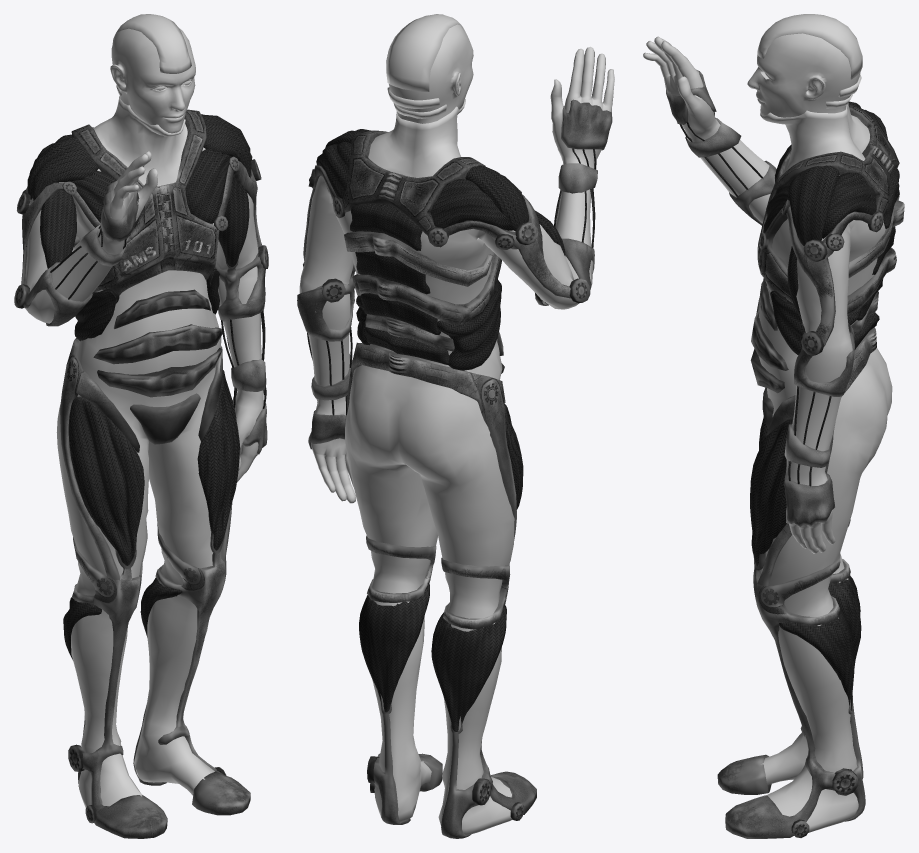
File: waving.obj
3 views of the same model, side by side, from view 1: azimuth 30°, elevation 25°; view 2: azimuth 150°, elevation 25°; view 3: azimuth 270°, elevation 25° (orthographic).
Parts seen in each view (by area): view 1: Exo_Suit, EXO_Body, EXO_HeadMask; view 2: Exo_Suit, EXO_Body, EXO_HeadMask; view 3: Exo_Suit, EXO_Body, EXO_HeadMask.
Boxes of the visible parts, left/top/right/bottom form: Exo_Suit: left=14, top=109, right=268, bottom=838; EXO_Body: left=25, top=27, right=263, bottom=807; EXO_HeadMask: left=93, top=14, right=191, bottom=186; Exo_Suit: left=297, top=99, right=612, bottom=838; EXO_Body: left=299, top=24, right=614, bottom=835; EXO_HeadMask: left=368, top=14, right=467, bottom=177; Exo_Suit: left=666, top=70, right=904, bottom=838; EXO_Body: left=643, top=33, right=892, bottom=835; EXO_HeadMask: left=757, top=14, right=869, bottom=172.
Size of the model in its own units: 64.14 by 180 by 53.77.
